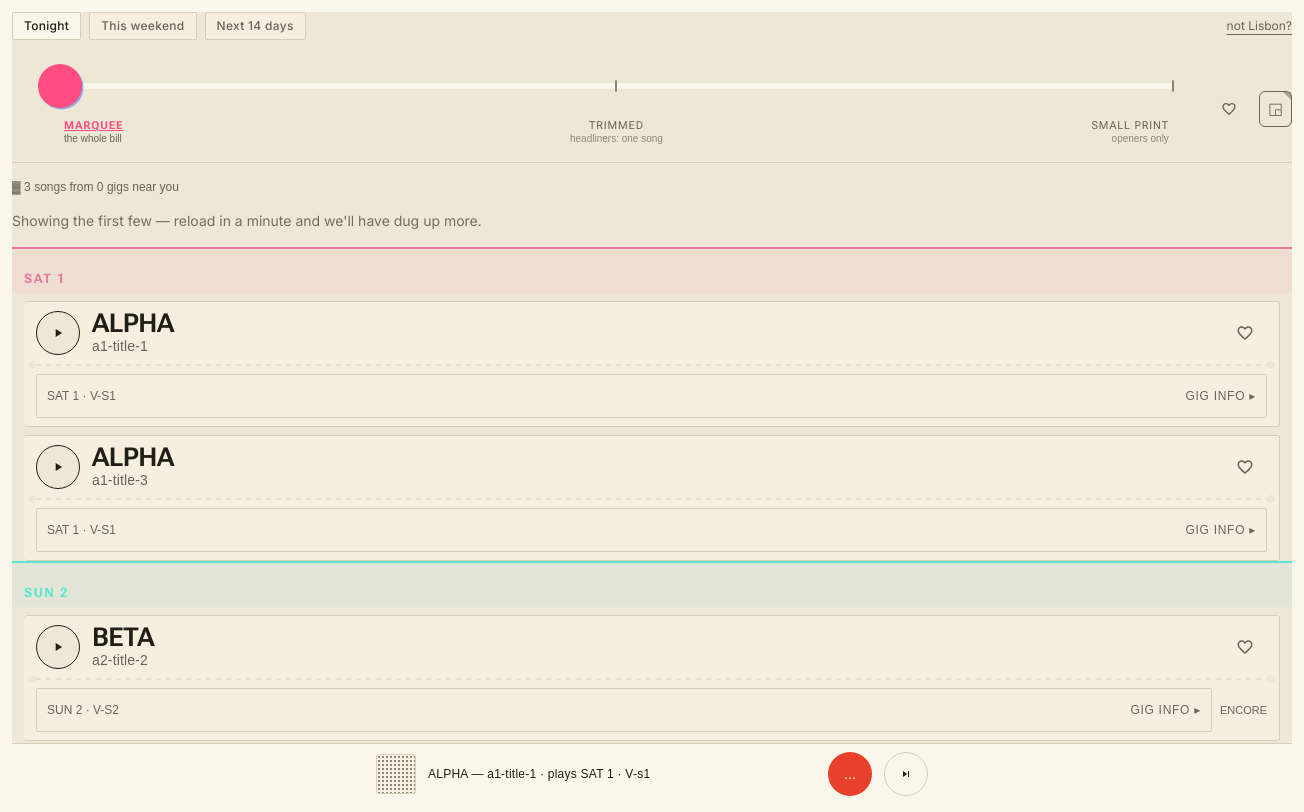
Test: PlaylistScreen — per-song hearts (Hearted Shelf step 2) › the dock heart ticks its count with every heart/unheart and stays quiet when empty
This screenshot has width=1304, height=812.
Expected: the button named "Your hearted songs (0)" is empty, [1207,87,1251,131]
Two hearts → count 2, in the riso-pink mono stamp.
Click the button named "Heart ALPHA — a1-title-1" at [1245, 332], box [1223,310,1267,354]
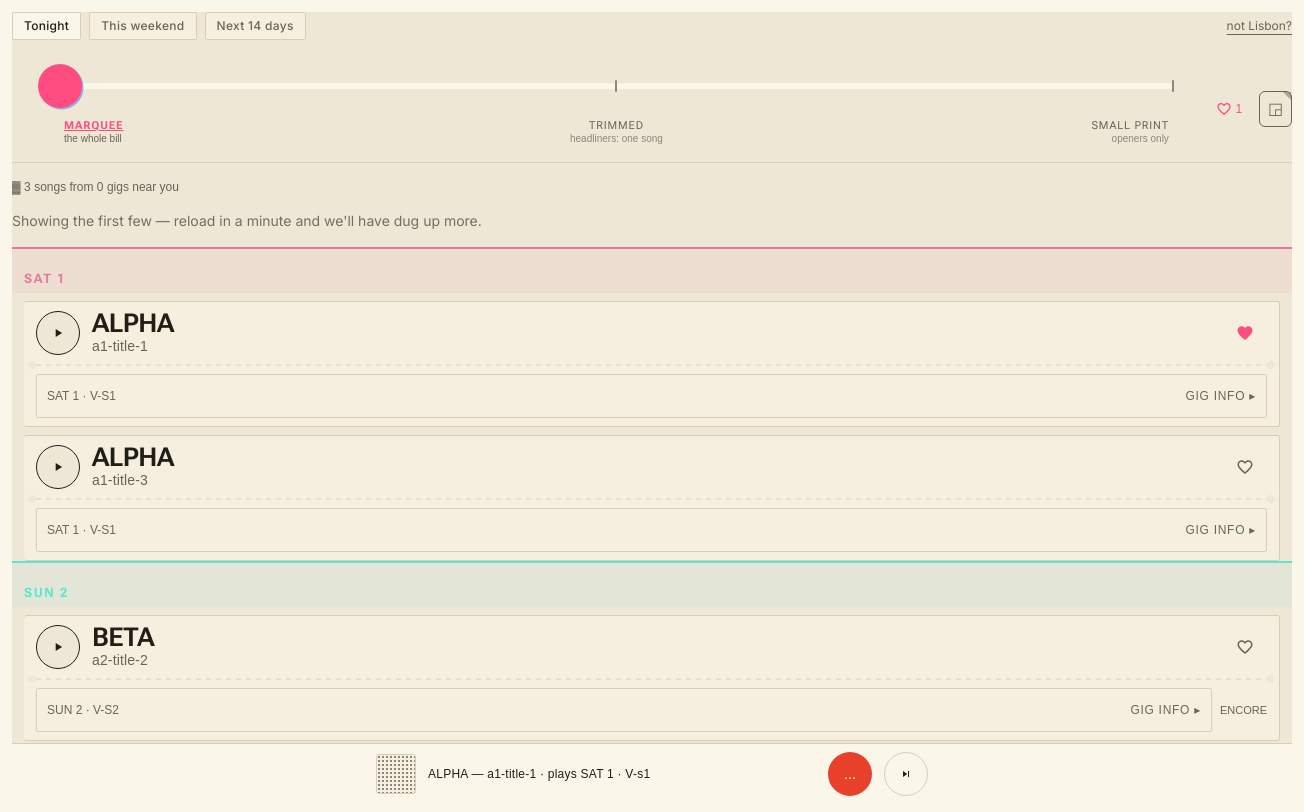
Click the button named "Heart BETA — a2-title-2" at [1245, 646], box [1223,624,1267,668]
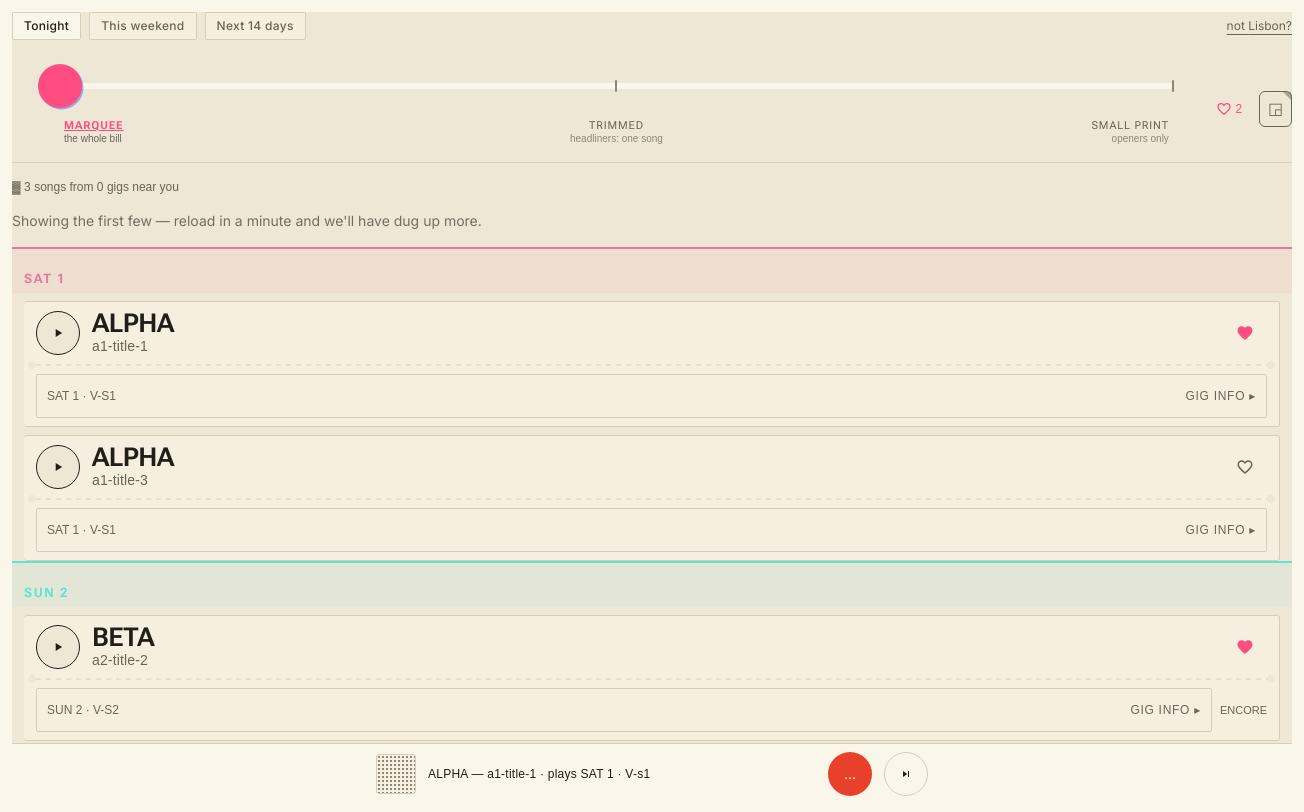
Expected: the button named "Your hearted songs (2)" reads "2", [1207,87,1251,131]
Unheart one → the count ticks back down.
Click the button named "Unheart BETA — a2-title-2" at [1245, 646], box [1223,624,1267,668]
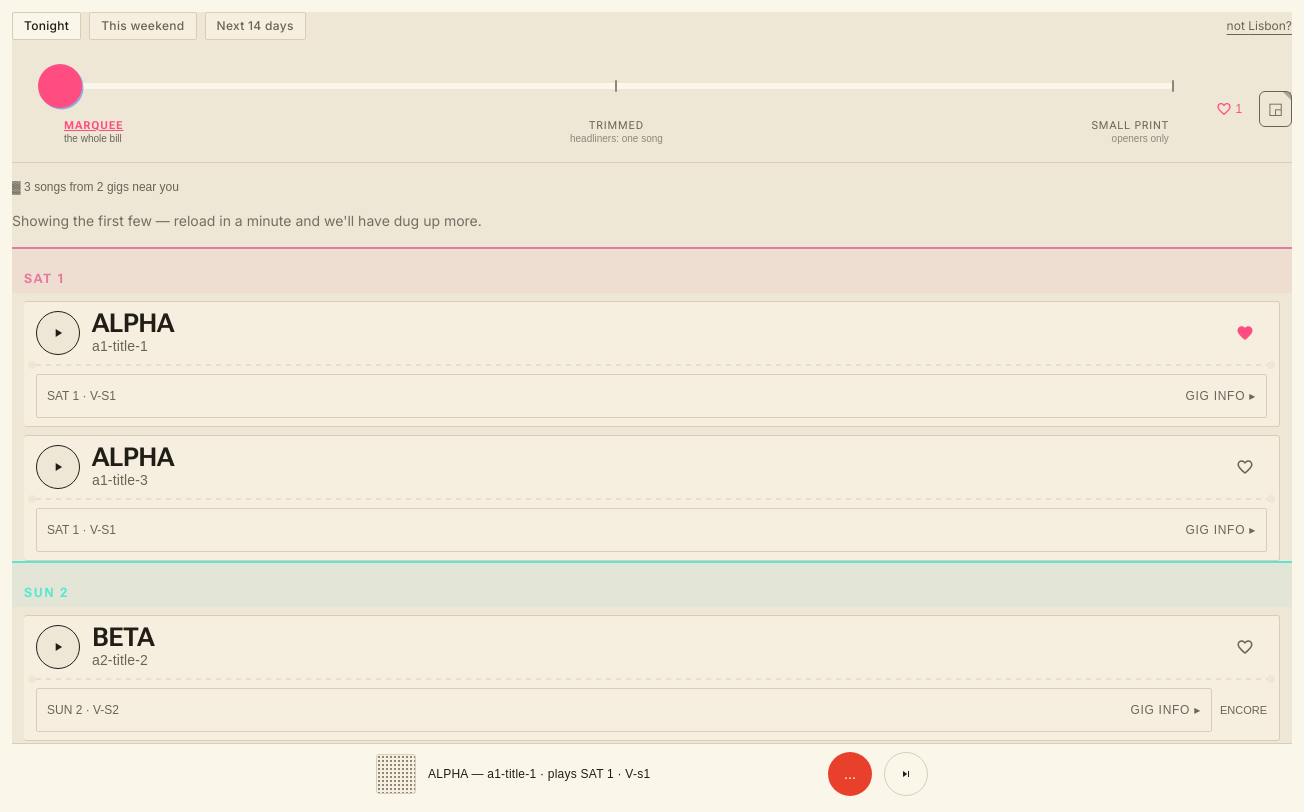
Expected: the button named "Your hearted songs (1)" reads "1", [1207,87,1251,131]
